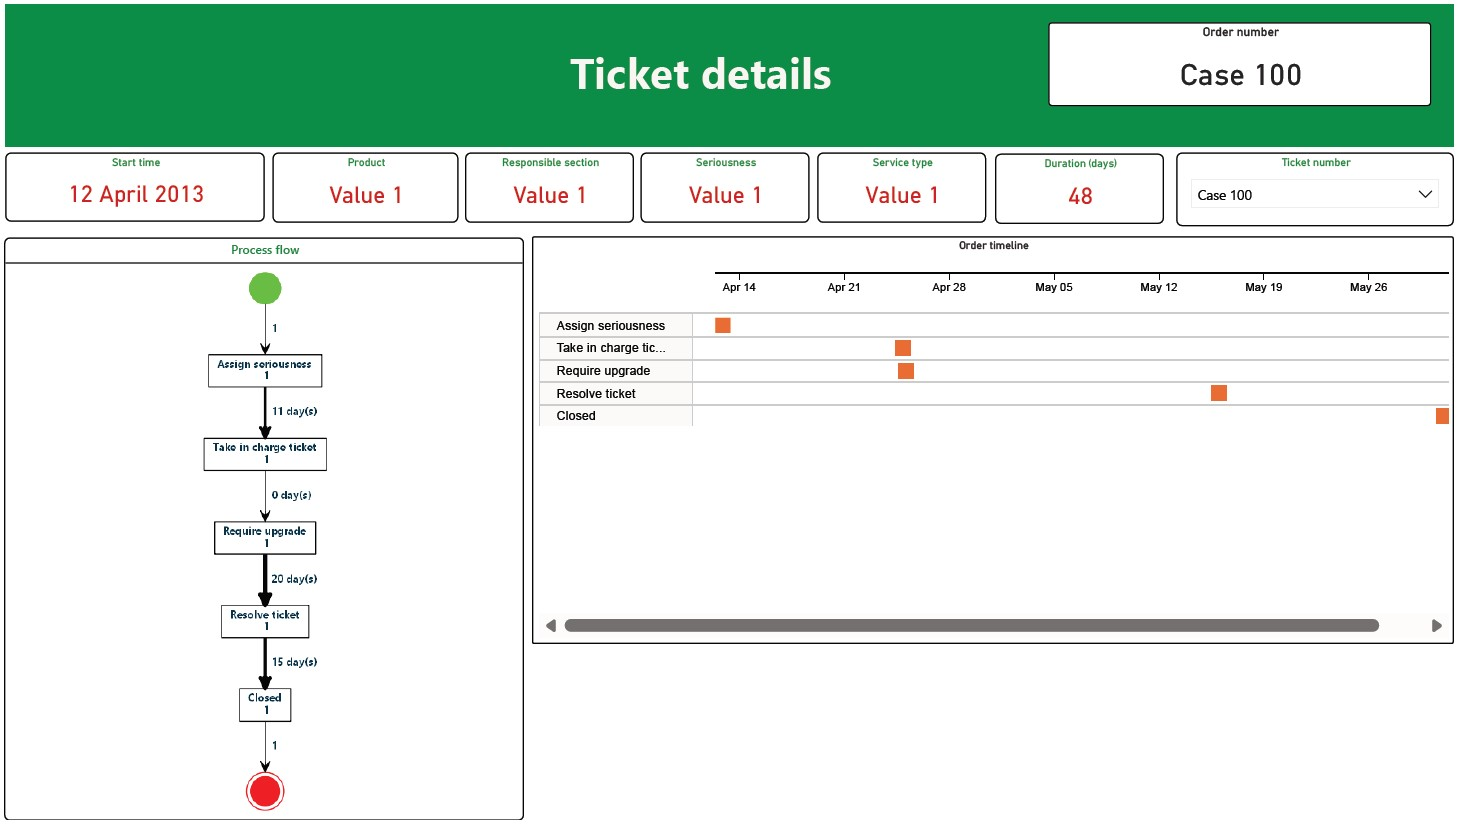

What the dashboard file says about the page in this screenshot:
{"tool":"powerbi","page":{"name":"Tickets","canvas":[1280,720],"ordinal":7},"visuals":[{"type":"shape","box":[1,0,1279,126.4],"z":0},{"type":"textbox","box":[447.4,30.2,335.3,67.2],"z":1000},{"type":"card","title":"Start time","fields":{"Values":["Min(Distinct_log (2).Complete Timestamp)"]},"box":[1.2,130.8,228.6,61.1],"z":2000},{"type":"card","title":"Responsible section","fields":{"Values":["Min(Distinct_log (2).responsible_section)"]},"box":[407.1,130.8,149.1,62.3],"z":3000},{"type":"card","title":"Product","fields":{"Values":["Min(Distinct_log (2).product)"]},"box":[237.1,130.8,163.8,62.3],"z":4000},{"type":"pythonVisual","title":"Process flow","fields":{"Values":["Helpdesk_log.Case ID","Helpdesk_log.Complete Timestamp","Helpdesk_log.Activity","Helpdesk_log.Event_ID"]},"box":[0,205.7,458.5,515.5],"z":5000},{"type":"Gantt1448688115699","title":"Order timeline","fields":{"Task":["Helpdesk_log.Activity"],"StartDate":["Helpdesk_log.Complete Timestamp"],"Resource":["Helpdesk_log.Resource"]},"box":[465.7,205.4,814.1,359.4],"z":6000},{"type":"card","title":"Order number","fields":{"Values":["Min(Distinct_log (2).Case ID)"]},"box":[921.7,15.9,338.6,74.6],"z":7000},{"type":"slicer","title":"Ticket number","fields":{"Values":["Distinct_log (2).Case ID"]},"box":[1035.4,130.8,244.5,64.8],"z":8000},{"type":"card","title":"Seriousness","fields":{"Values":["Min(Distinct_log (2).seriousness)"]},"box":[562.3,130.8,149.1,62.3],"z":9000},{"type":"card","title":"Service type","fields":{"Values":["Min(Distinct_log (2).service_type)"]},"box":[717.6,130.8,149.1,62.3],"z":10000},{"type":"card","title":"Duration (days)","fields":{"Values":["Sum(Distinct_log (2).Case_Duration_days)"]},"box":[875.2,132,149.1,62.3],"z":11000}]}

Visuals, with their boxes in screenshot pixels (x1, y1, x2, y2), scaled from the page's 1280x720 canvas onto the 1465x825 screenshot:
shape: BBox(1, 0, 1464, 145)
textbox: BBox(512, 35, 896, 112)
"Start time" card: BBox(1, 150, 263, 220)
"Responsible section" card: BBox(466, 150, 637, 221)
"Product" card: BBox(271, 150, 459, 221)
"Process flow" pythonVisual: BBox(0, 236, 525, 824)
"Order timeline" Gantt1448688115699: BBox(533, 235, 1464, 647)
"Order number" card: BBox(1055, 18, 1442, 104)
"Ticket number" slicer: BBox(1185, 150, 1464, 224)
"Seriousness" card: BBox(644, 150, 814, 221)
"Service type" card: BBox(821, 150, 992, 221)
"Duration (days)" card: BBox(1002, 151, 1172, 223)
